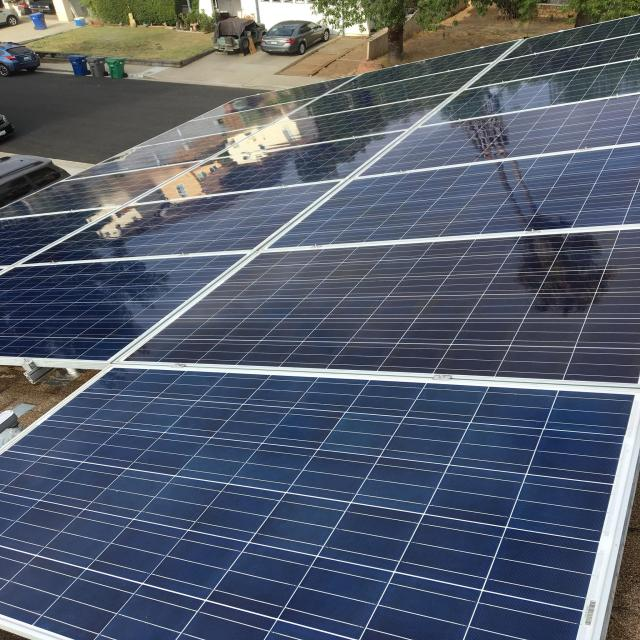clean-solar-panel: (0, 15, 640, 640)
